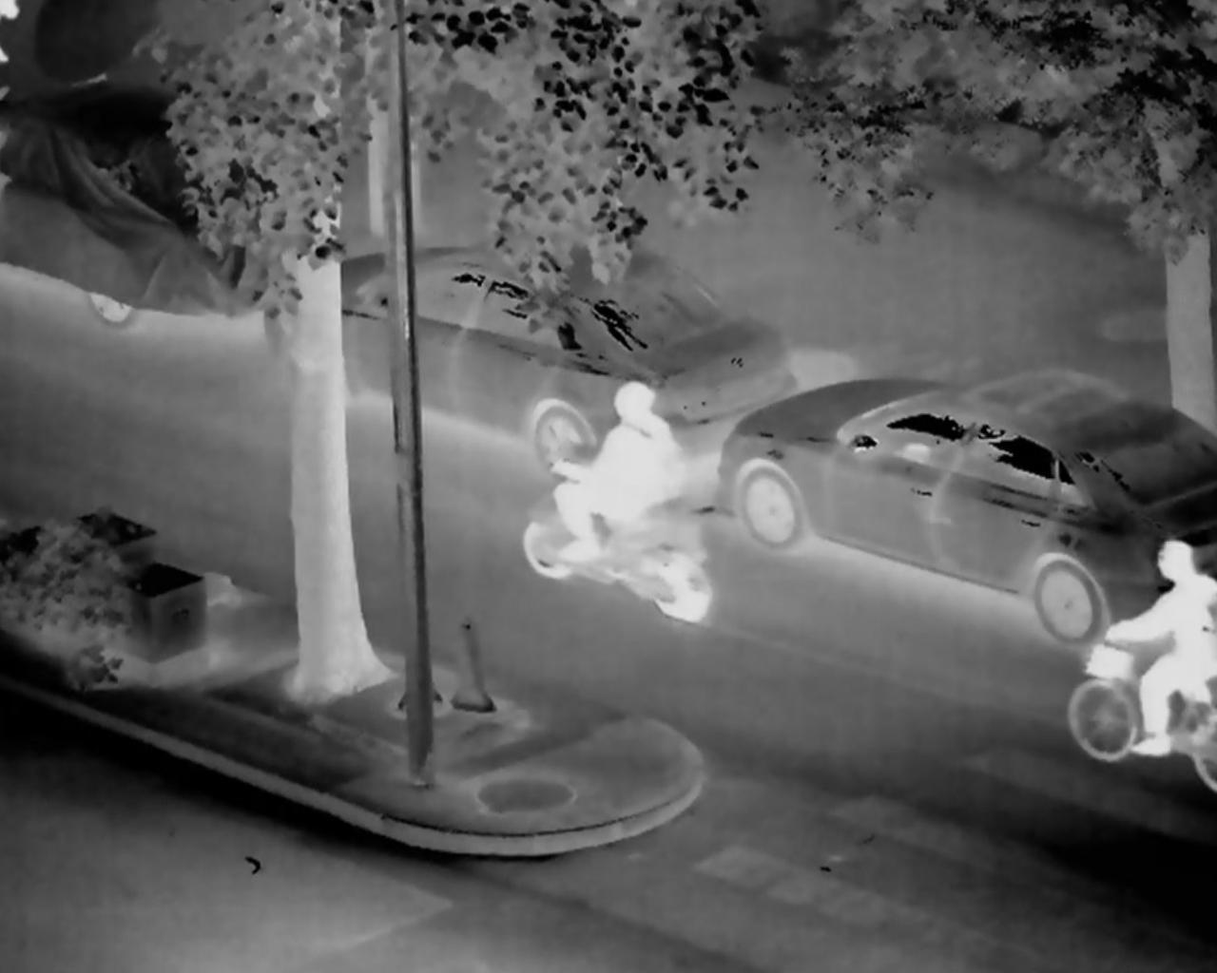person: (1094, 524, 1216, 785), (533, 361, 678, 563)
